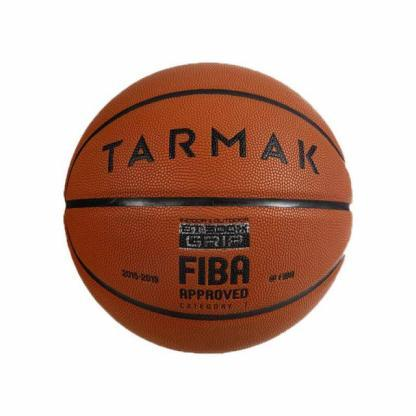basketball: (63, 62, 354, 353)
